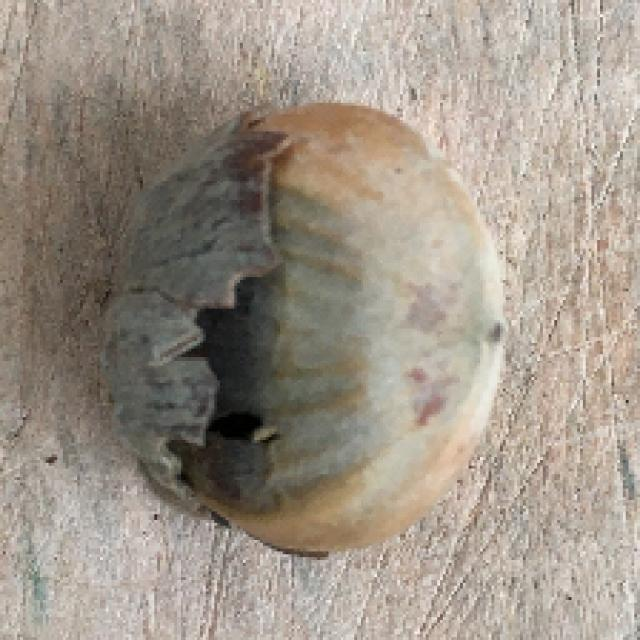damagedHazelnut: (92, 88, 520, 550)
